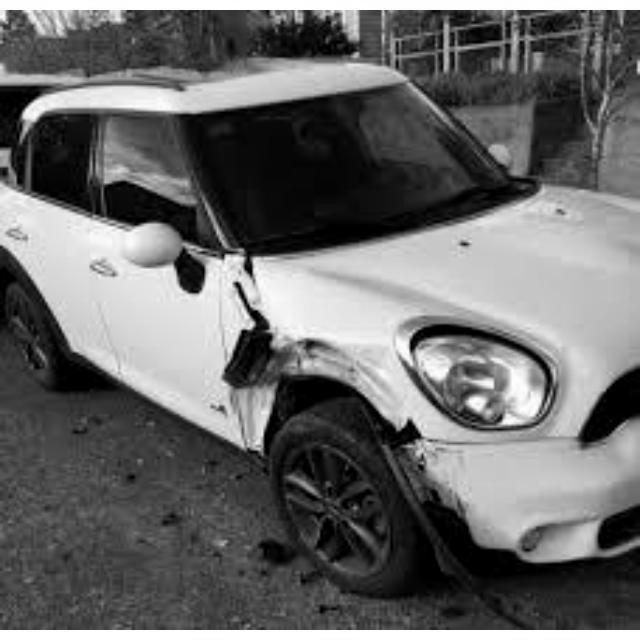fender-dent: (203, 255, 393, 403)
